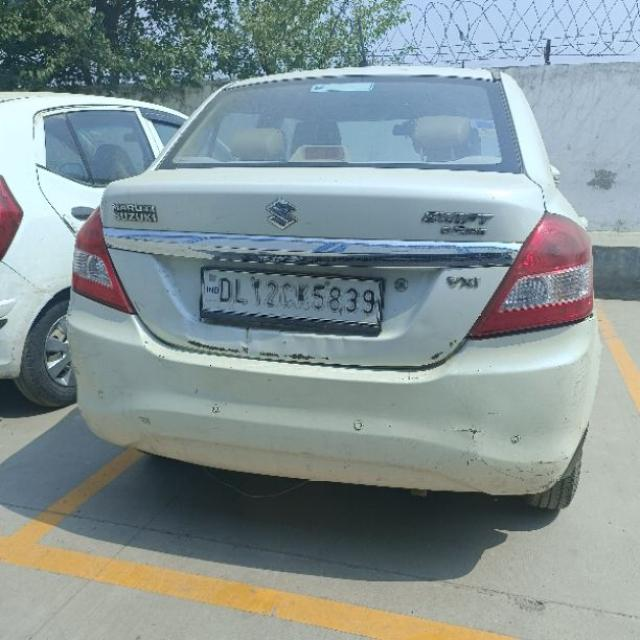license_plate: (198, 264, 384, 334)
